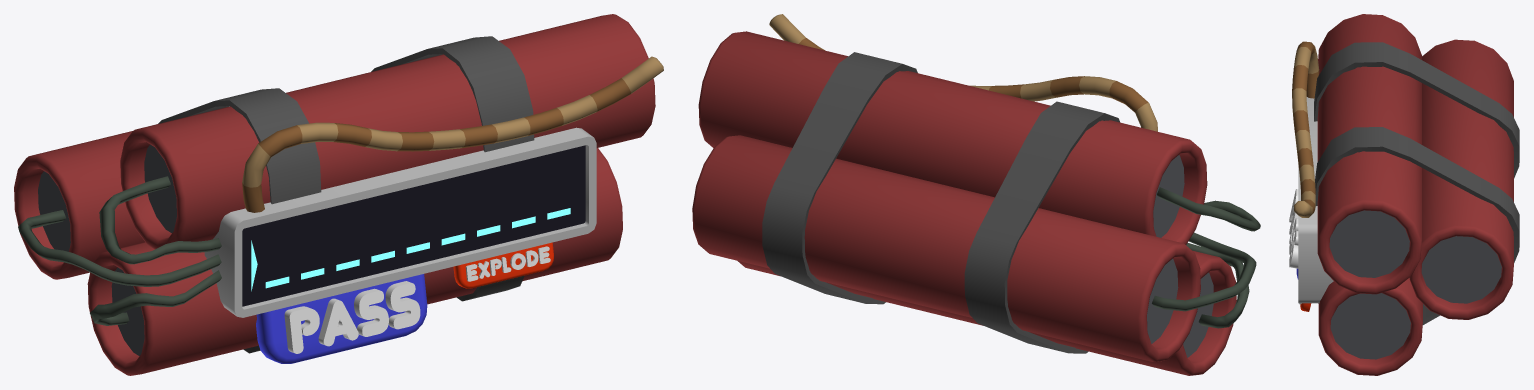
File: bomb.fbx
3 views of the same model, side by side, from view 1: azimuth 30°, elevation 25°; view 2: azimuth 150°, elevation 25°; view 3: azimuth 270°, elevation 25° (orthographic). The views are drawn at different scales.
Visible parts, largest first — view 1: Explosive, Display, Explosive.001, Explosive.002, Wick, Strip.001, Strip, PassButton, Text, Wire, Wire.001, Wire.002 (+3 smaller); view 2: Explosive.002, Explosive, Strip, Strip.001, Explosive.001, Wick, Wire, Wire.001, Wire.002; view 3: Explosive, Explosive.002, Explosive.001, Strip.001, Strip, Wick, Display, Text.
Boxes of the visible parts, left/top/right/bottom form: Explosive: left=120, top=14, right=655, bottom=249; Display: left=204, top=127, right=596, bottom=317; Explosive.001: left=87, top=148, right=622, bottom=375; Explosive.002: left=14, top=130, right=144, bottom=279; Wick: left=242, top=56, right=663, bottom=212; Strip.001: left=371, top=36, right=534, bottom=301; Strip: left=158, top=88, right=321, bottom=353; PassButton: left=256, top=274, right=427, bottom=363; Text: left=284, top=281, right=420, bottom=353; Wire: left=18, top=210, right=221, bottom=286; Wire.001: left=99, top=176, right=221, bottom=264; Wire.002: left=90, top=270, right=221, bottom=325; Explosive.002: left=692, top=135, right=1200, bottom=361; Explosive: left=698, top=31, right=1207, bottom=244; Strip: left=964, top=101, right=1120, bottom=353; Strip.001: left=762, top=52, right=917, bottom=304; Explosive.001: left=738, top=250, right=1236, bottom=375; Wick: left=769, top=14, right=1157, bottom=131; Wire: left=1152, top=232, right=1256, bottom=311; Wire.001: left=1157, top=187, right=1260, bottom=231; Wire.002: left=1186, top=243, right=1249, bottom=328; Explosive: left=1317, top=14, right=1421, bottom=294; Explosive.002: left=1409, top=39, right=1513, bottom=319; Explosive.001: left=1318, top=278, right=1422, bottom=375; Strip.001: left=1315, top=127, right=1519, bottom=324; Strip: left=1314, top=42, right=1519, bottom=178; Wick: left=1292, top=41, right=1319, bottom=217; Display: left=1298, top=97, right=1333, bottom=303; Text: left=1289, top=189, right=1298, bottom=268.
Size of the model in its own units: 20.27 by 8.43 by 8.76.
